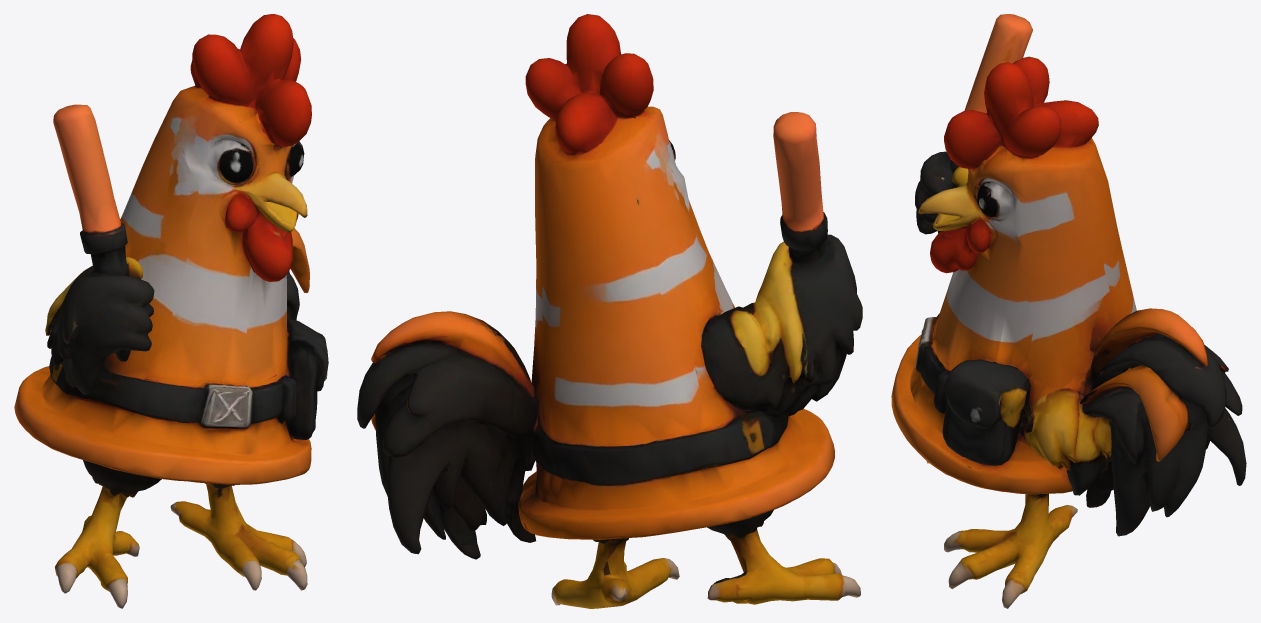
The model's file is parkiram.glb.
3 views of the same model, side by side, from view 1: azimuth 30°, elevation 25°; view 2: azimuth 150°, elevation 25°; view 3: azimuth 270°, elevation 25° (orthographic). The views are drawn at different scales.
Visible parts, largest first — view 1: textured_mesh.obj; view 2: textured_mesh.obj; view 3: textured_mesh.obj.
Part boxes in pixels (box(x1,y1,x2,y2)): textured_mesh.obj: box(14, 14, 328, 608); textured_mesh.obj: box(357, 14, 862, 608); textured_mesh.obj: box(891, 14, 1246, 608).
Bounding box in the file's own units: 0.5576 × 0.8499 × 0.5158.
1 material, 1 textured.
